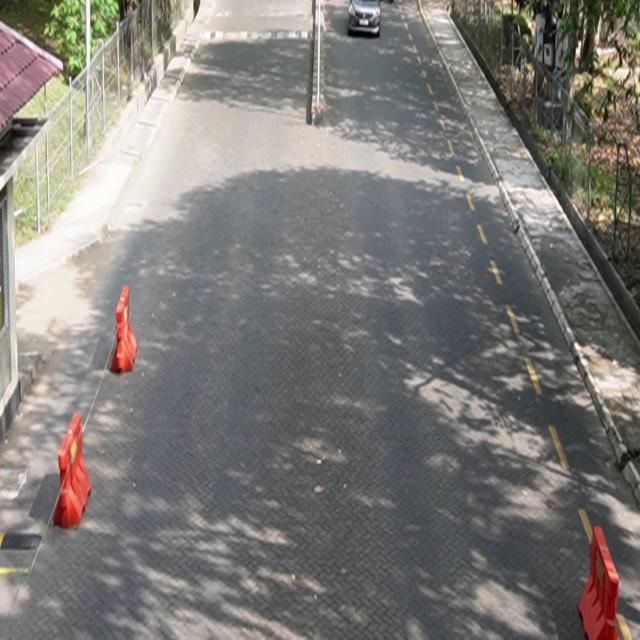car: (348, 1, 382, 38)
